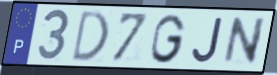3: (36, 7, 71, 65)
7: (112, 11, 152, 65)
D: (69, 9, 111, 64)
G: (149, 13, 188, 65)
J: (190, 16, 225, 65)
N: (221, 16, 268, 66)
